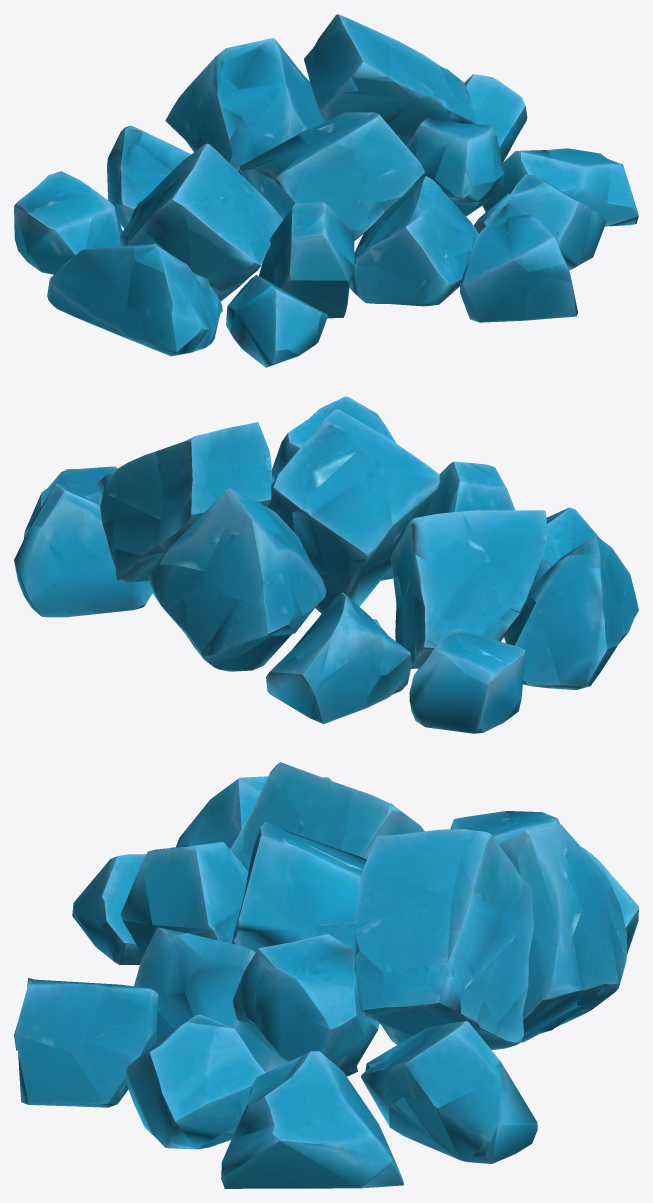
The model's file is mx_sg_icerock.glb.
3 renders of one model, top to bottom at view 1: azimuth 30°, elevation 25°; view 2: azimuth 150°, elevation 25°; view 3: azimuth 270°, elevation 25°, orthographic. The views are drawn at different scales.
Size of the model in its own units: 1.9 by 0.6199 by 1.48.
Materials: 1 (1 with a texture image).
